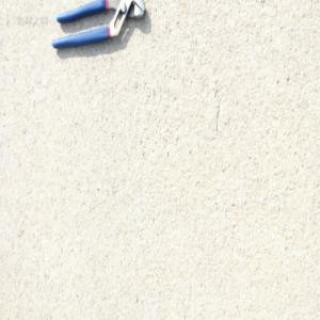Pliertrack_idkeyframe: (50, 0, 145, 50)
